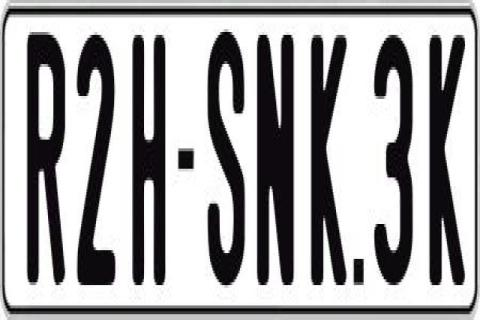0: (372, 29, 416, 297), (74, 27, 112, 286)
H: (132, 32, 166, 296)
K: (311, 29, 353, 291), (429, 35, 464, 303)
N: (256, 27, 294, 286)
R: (26, 23, 66, 291)
S: (206, 29, 244, 288)
